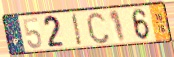1: (108, 9, 127, 45)
2: (43, 13, 68, 51)
5: (21, 17, 43, 50)
6: (131, 8, 151, 42)
C: (85, 10, 112, 45)
I: (70, 12, 84, 47)
